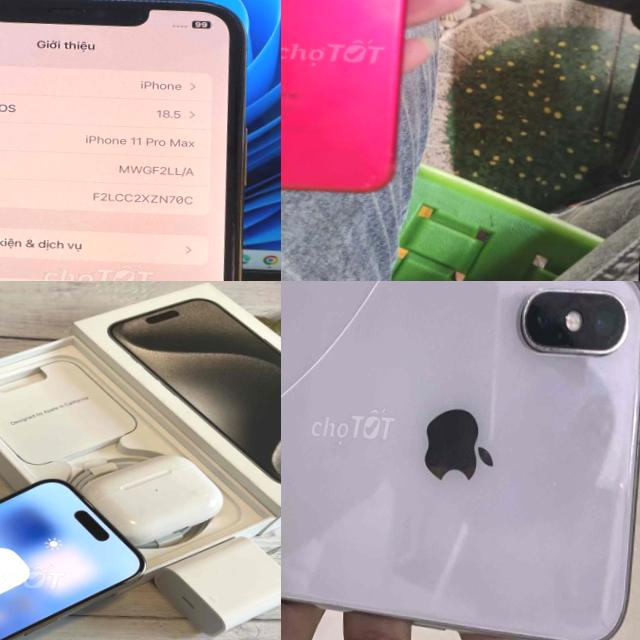physical_damage: (281, 281, 344, 585), (340, 281, 391, 335)
scratch: (358, 147, 400, 195), (522, 291, 536, 312)
